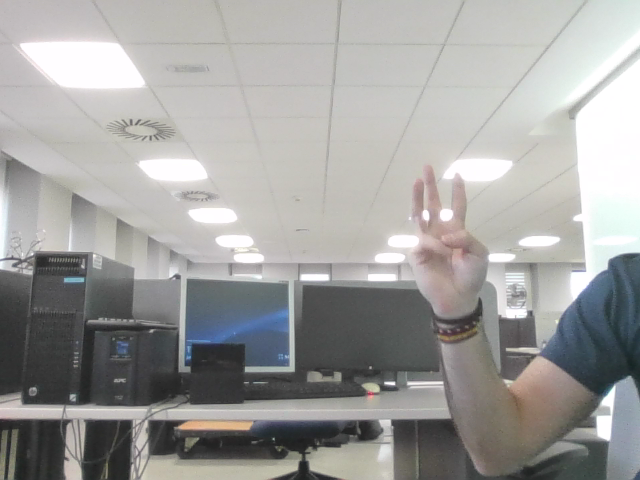3Dedos: (420, 175, 478, 276)
